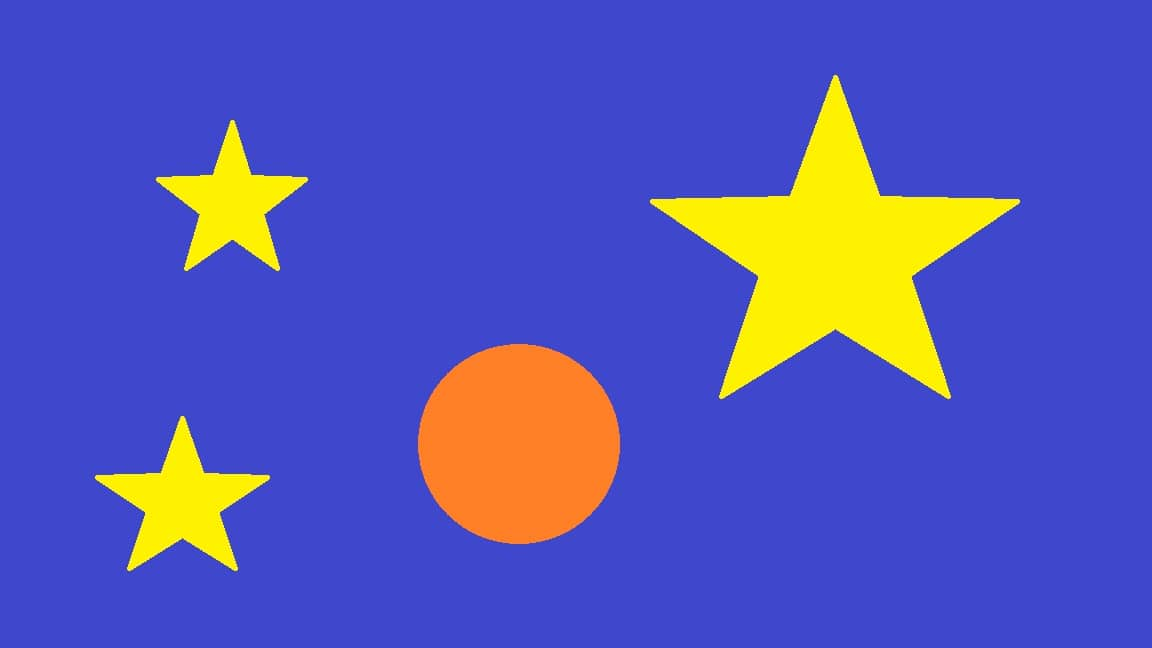Oval: (417, 339, 621, 543)
Star: (649, 78, 1022, 401), (96, 412, 272, 570), (152, 119, 310, 272)
